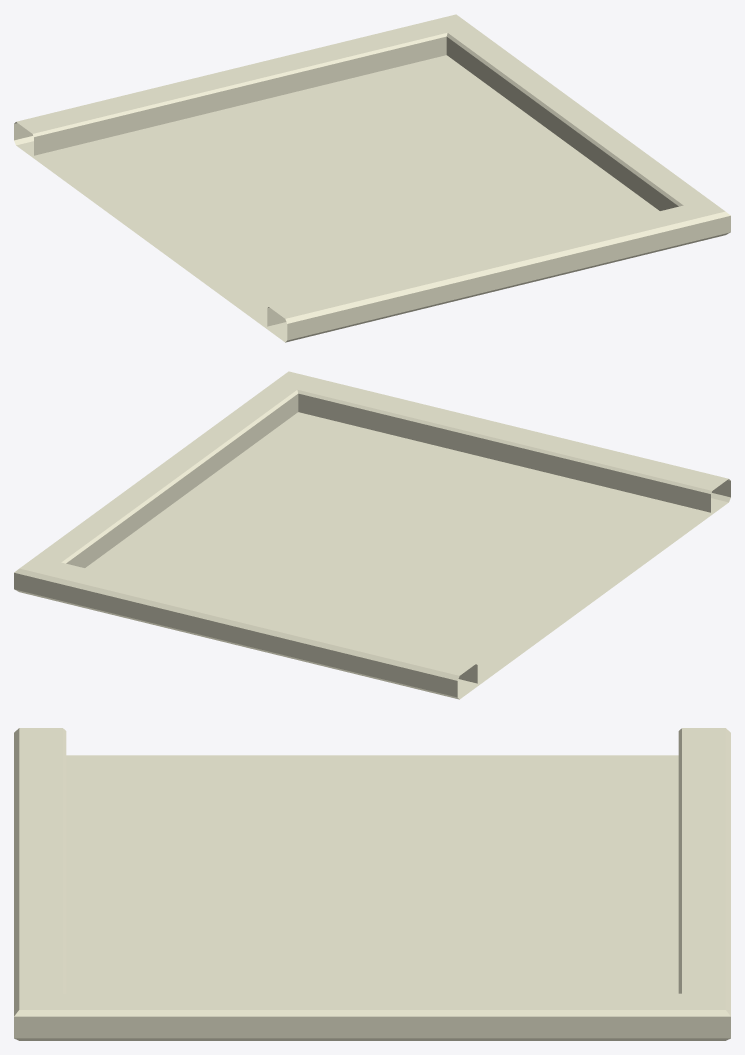
File: fbx_building_2_rooftop.fbx
The picture shows the model from 3 angles, top to bottom: view 1: azimuth 30°, elevation 25°; view 2: azimuth 150°, elevation 25°; view 3: azimuth 270°, elevation 25°; orthographic projection. The views are drawn at different scales.
Parts seen in each view (by area): view 1: fbx_building_2_rooftop; view 2: fbx_building_2_rooftop; view 3: fbx_building_2_rooftop.
Boxes of the visible parts, bbox=[...] form: fbx_building_2_rooftop: bbox=[14, 14, 730, 342]; fbx_building_2_rooftop: bbox=[14, 371, 730, 699]; fbx_building_2_rooftop: bbox=[14, 728, 730, 1040].
Size of the model in its own units: 5.01 by 0.2555 by 5.34.
Materials: 1 (1 with a texture image).
